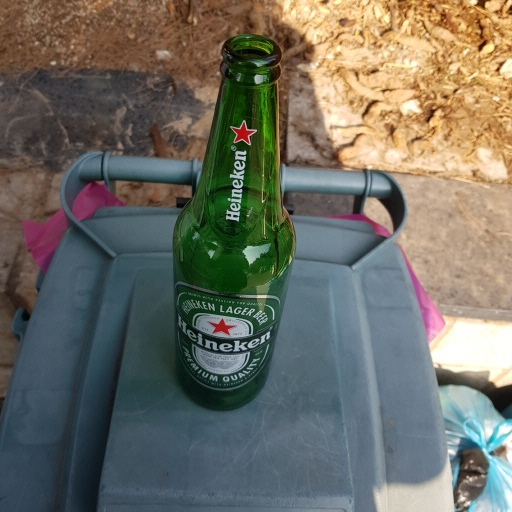Glass_1: (169, 34, 304, 413)
